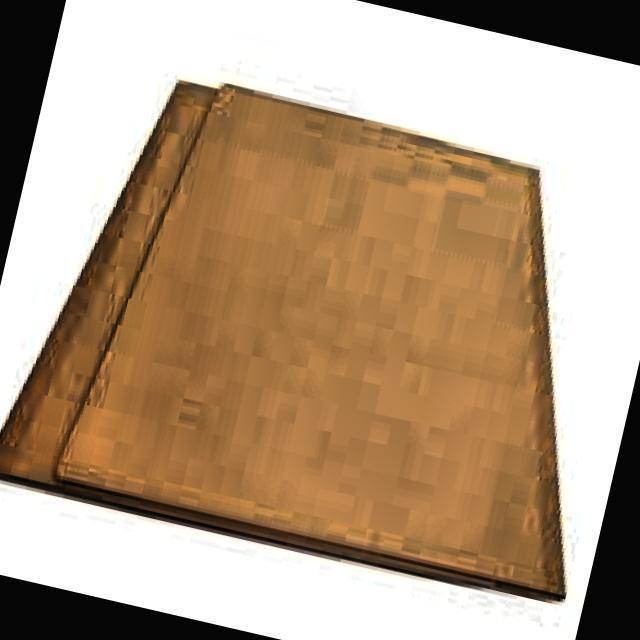cardboard: (0, 45, 640, 609)
